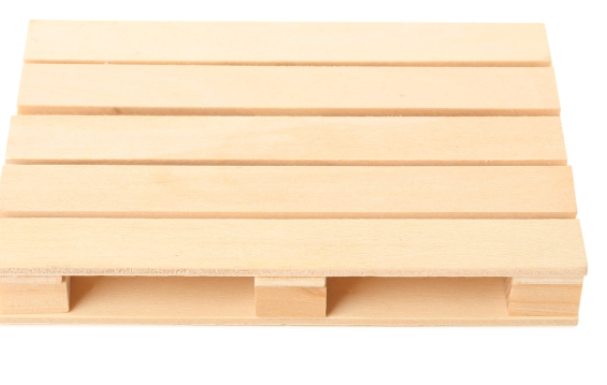hole pallet: (0, 270, 584, 324)
